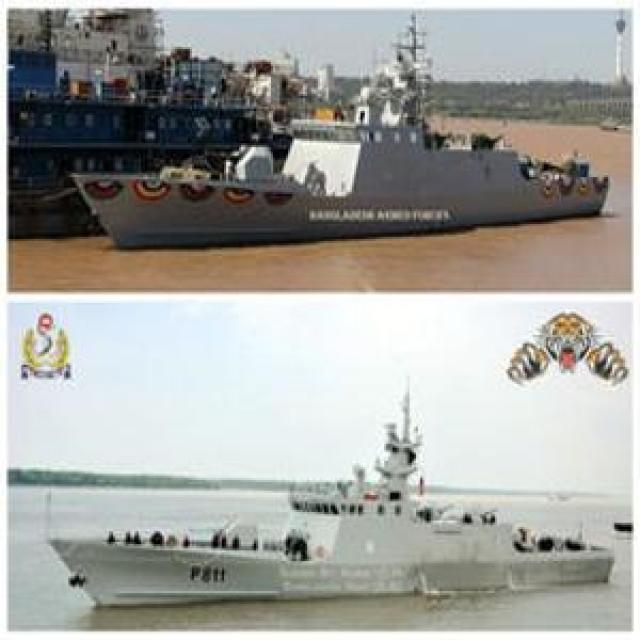navalvessels: (41, 386, 609, 616), (73, 21, 622, 245)
